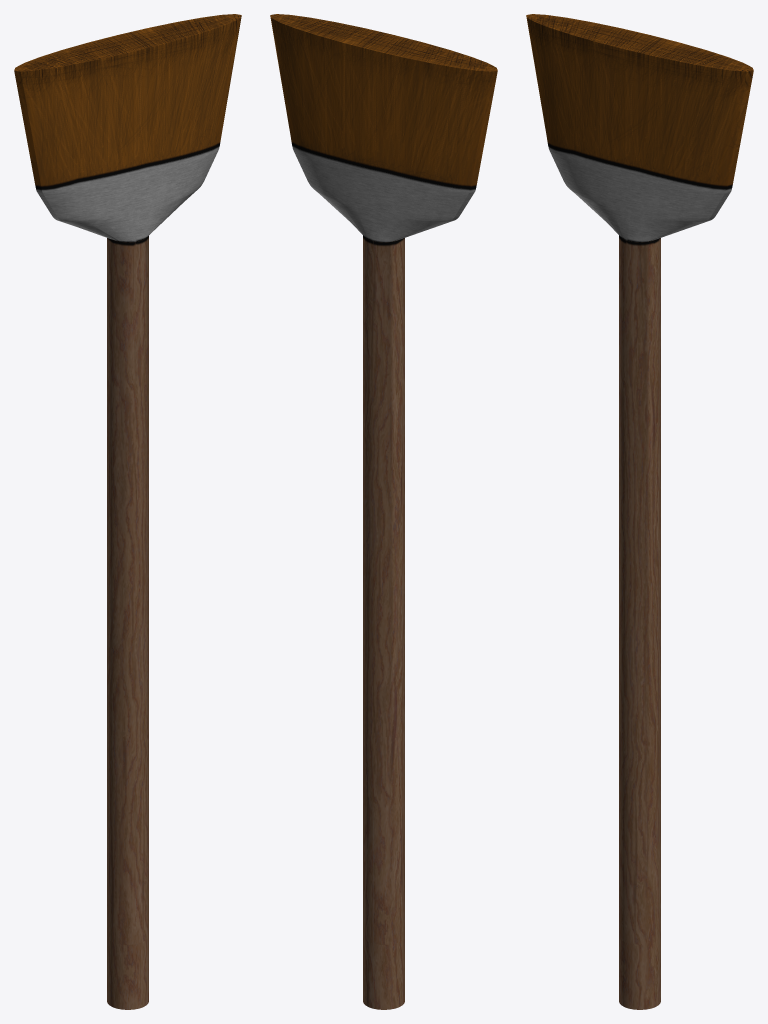
Rendered from Broom.fbx.
3 renders of one model, left to right at view 1: azimuth 30°, elevation 25°; view 2: azimuth 150°, elevation 25°; view 3: azimuth 330°, elevation 25°, orthographic.
Visible parts, largest first — view 1: Broom; view 2: Broom; view 3: Broom.
Boxes of the visible parts, <box> form: Broom: <box>14,14,241,1009</box>; Broom: <box>270,14,497,1009</box>; Broom: <box>526,14,753,1009</box>.
Size of the model in its own units: 0.2487 by 0.04 by 1.
